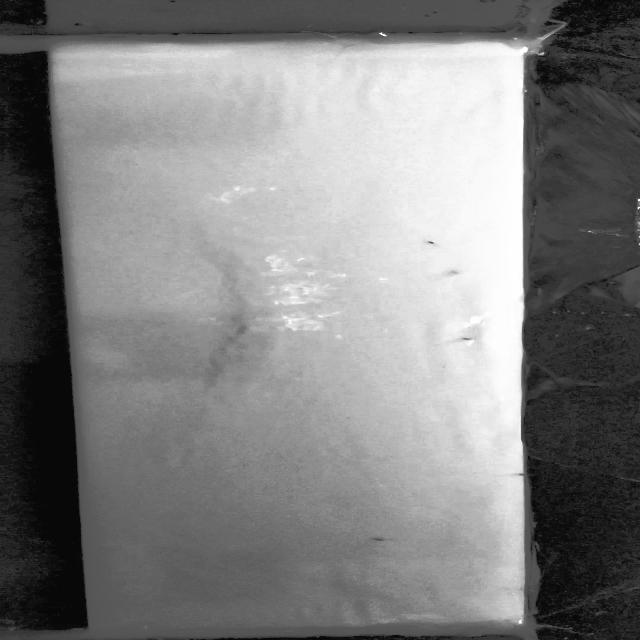shrimp: (367, 532, 401, 547), (419, 232, 446, 247)
